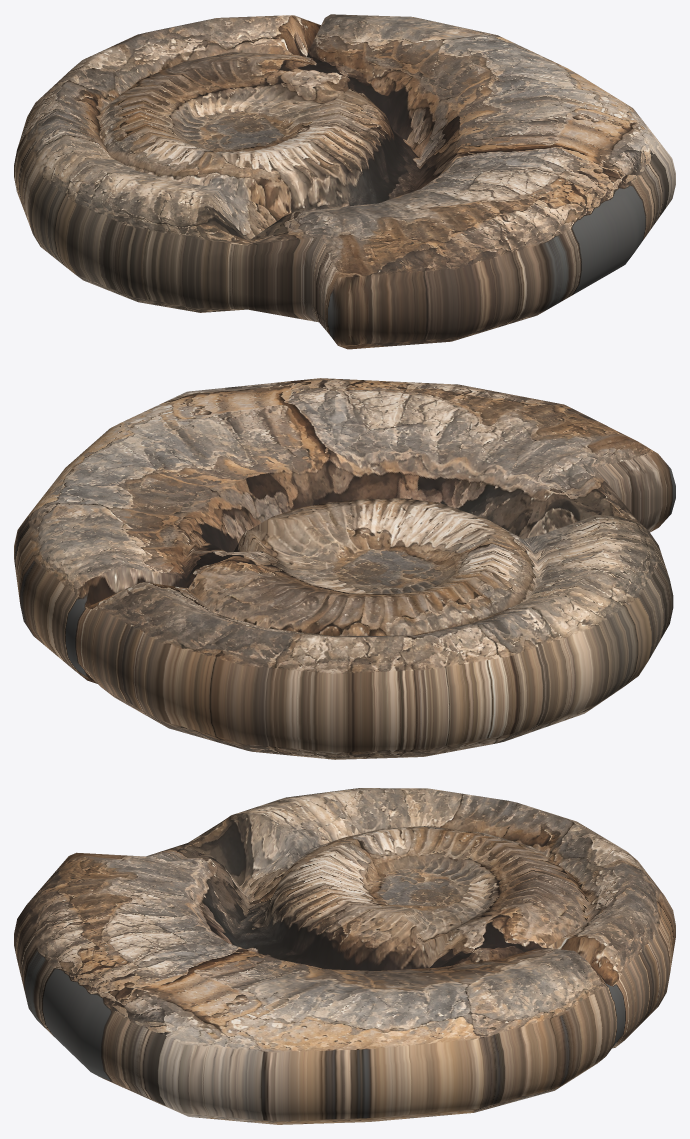
The model's file is Hoplites.glb.
3 renders of one model, top to bottom at view 1: azimuth 30°, elevation 25°; view 2: azimuth 150°, elevation 25°; view 3: azimuth 270°, elevation 25°, orthographic. The views are drawn at different scales.
Parts seen in each view (by area): view 1: Hoplites; view 2: Hoplites; view 3: Hoplites.
Part boxes in pixels (x1,y1,x2,y2): Hoplites: (14,14,675,349); Hoplites: (14,378,675,759); Hoplites: (14,788,675,1124).
Bounding box in the file's own units: 1.41 × 0.2729 × 1.47.
Materials: 1 (1 with a texture image).
